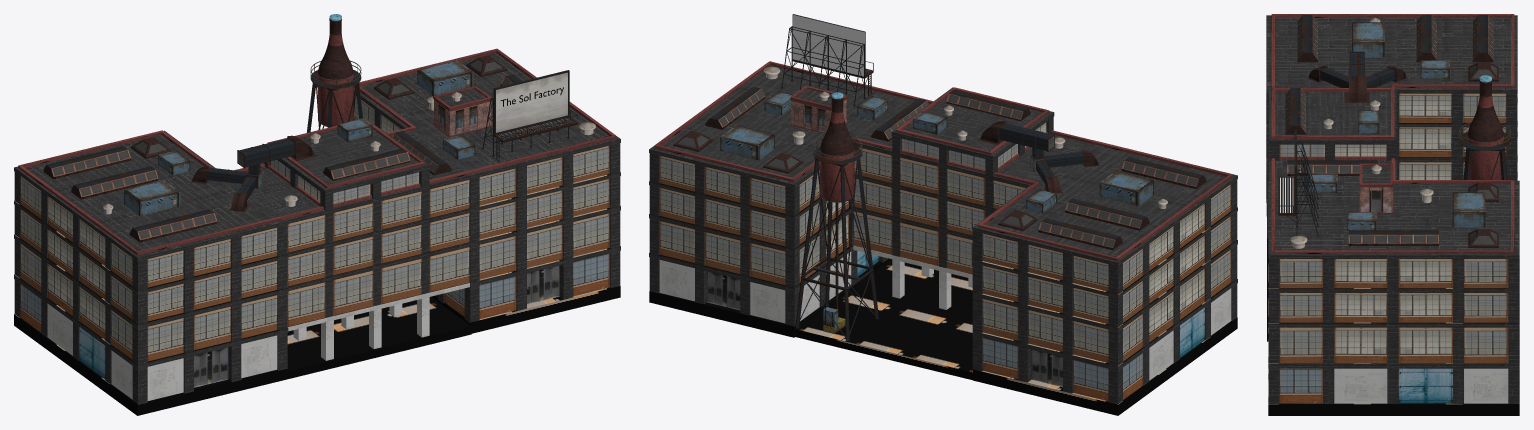
3 renders of one model, left to right at view 1: azimuth 30°, elevation 25°; view 2: azimuth 150°, elevation 25°; view 3: azimuth 270°, elevation 25°, orthographic. The views are drawn at different scales.
Visible parts, largest first — view 1: Cube_0, Vent_1, Board_4, Bottle_3, BottleStand_2; view 2: Cube_0, Vent_1, BottleStand_2, Board_4, Bottle_3; view 3: Cube_0, Vent_1, Bottle_3, Board_4, BottleStand_2.
Boxes of the visible parts, bbox=[...] form: Cube_0: bbox=[14, 48, 620, 415]; Vent_1: bbox=[43, 55, 595, 242]; Board_4: bbox=[482, 70, 577, 161]; Bottle_3: bbox=[318, 14, 353, 126]; BottleStand_2: bbox=[307, 60, 362, 132]; Cube_0: bbox=[649, 61, 1237, 415]; Vent_1: bbox=[673, 66, 1206, 250]; BottleStand_2: bbox=[795, 137, 878, 340]; Board_4: bbox=[781, 14, 873, 106]; Bottle_3: bbox=[820, 92, 854, 202]; Cube_0: bbox=[1266, 14, 1519, 415]; Vent_1: bbox=[1285, 15, 1498, 248]; Bottle_3: bbox=[1467, 75, 1503, 179]; Board_4: bbox=[1278, 129, 1318, 236]; BottleStand_2: bbox=[1459, 122, 1510, 179].
Size of the model in its own units: 54.93 by 26.86 by 24.49.
8 materials, 7 textured.
